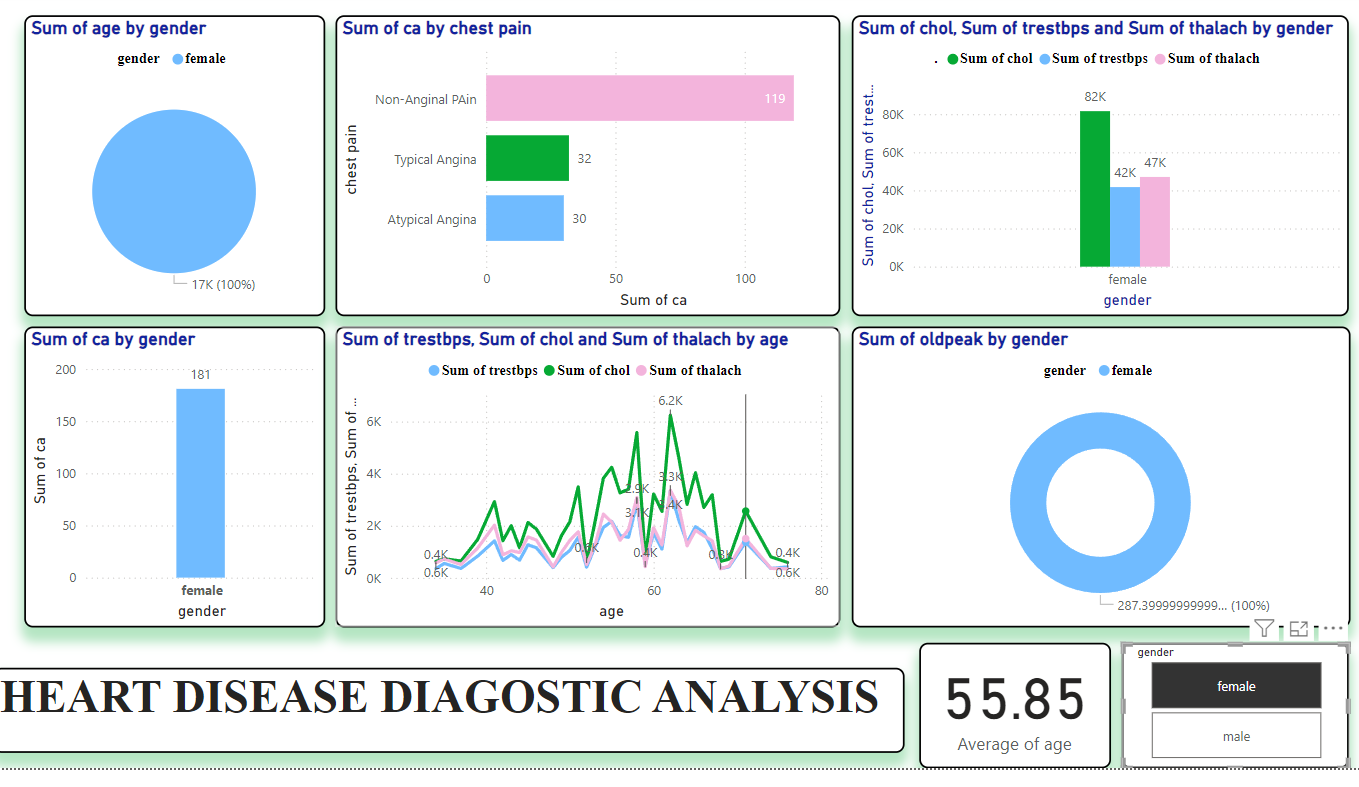

The dashboard page shown, as its layout file describes it:
{"tool":"powerbi","page":{"name":"Page 1","canvas":[1280,720],"ordinal":0},"visuals":[{"type":"pieChart","fields":{"Category":["Heart Disease data.gender "],"Y":["Sum(Heart Disease data.age)"]},"box":[28.8,19.2,279.9,279.9],"z":0},{"type":"clusteredColumnChart","fields":{"Y":["Sum(Heart Disease data.ca)"],"Category":["Heart Disease data.gender "]},"box":[29,309,280,280],"z":1000},{"type":"barChart","fields":{"Category":["Heart Disease data.chest pain"],"Y":["Sum(Heart Disease data.ca)"]},"box":[318.4,19.2,469.3,279.9],"z":2000},{"type":"lineChart","fields":{"Category":["Heart Disease data.age"],"Y":["Sum(Heart Disease data.trestbps)","Sum(Heart Disease data.chol)","Sum(Heart Disease data.thalach)"]},"box":[318.4,308.7,469.3,279.9],"z":3000},{"type":"clusteredColumnChart","fields":{"Y":["Sum(Heart Disease data.chol)","Sum(Heart Disease data.trestbps)","Sum(Heart Disease data.thalach)"],"Category":["Heart Disease data.gender "]},"box":[798.6,19.2,462.4,279.9],"z":4000},{"type":"donutChart","fields":{"Category":["Heart Disease data.gender "],"Y":["Sum(Heart Disease data.oldpeak)"]},"box":[798.6,308.7,463.8,279.9],"z":5000},{"type":"slicer","fields":{"Values":["Heart Disease data.gender "]},"box":[1049.7,603.8,211.3,116.6],"z":6000},{"type":"card","fields":{"Values":["Avg(Heart Disease data.age)"]},"box":[861.8,603.8,178.4,116.6],"z":7000},{"type":"textbox","box":[0,627.1,848,79.6],"z":8000}]}

Visuals, with their boxes in screenshot pixels (x1, y1, x2, y2), scaled from the page's 1280x720 canvas onto the 1359x787 screenshot:
pieChart - Heart Disease data.gender  x Sum(Heart Disease data.age): (x1=31, y1=21, x2=328, y2=327)
clusteredColumnChart - Sum(Heart Disease data.ca) x Heart Disease data.gender : (x1=31, y1=338, x2=328, y2=644)
barChart - Heart Disease data.chest pain x Sum(Heart Disease data.ca): (x1=338, y1=21, x2=836, y2=327)
lineChart - Heart Disease data.age x Sum(Heart Disease data.trestbps): (x1=338, y1=337, x2=836, y2=643)
clusteredColumnChart - Sum(Heart Disease data.chol) x Sum(Heart Disease data.trestbps): (x1=848, y1=21, x2=1339, y2=327)
donutChart - Heart Disease data.gender  x Sum(Heart Disease data.oldpeak): (x1=848, y1=337, x2=1340, y2=643)
slicer - Heart Disease data.gender : (x1=1114, y1=660, x2=1339, y2=786)
card - Avg(Heart Disease data.age): (x1=915, y1=660, x2=1104, y2=786)
textbox: (x1=0, y1=685, x2=900, y2=772)
